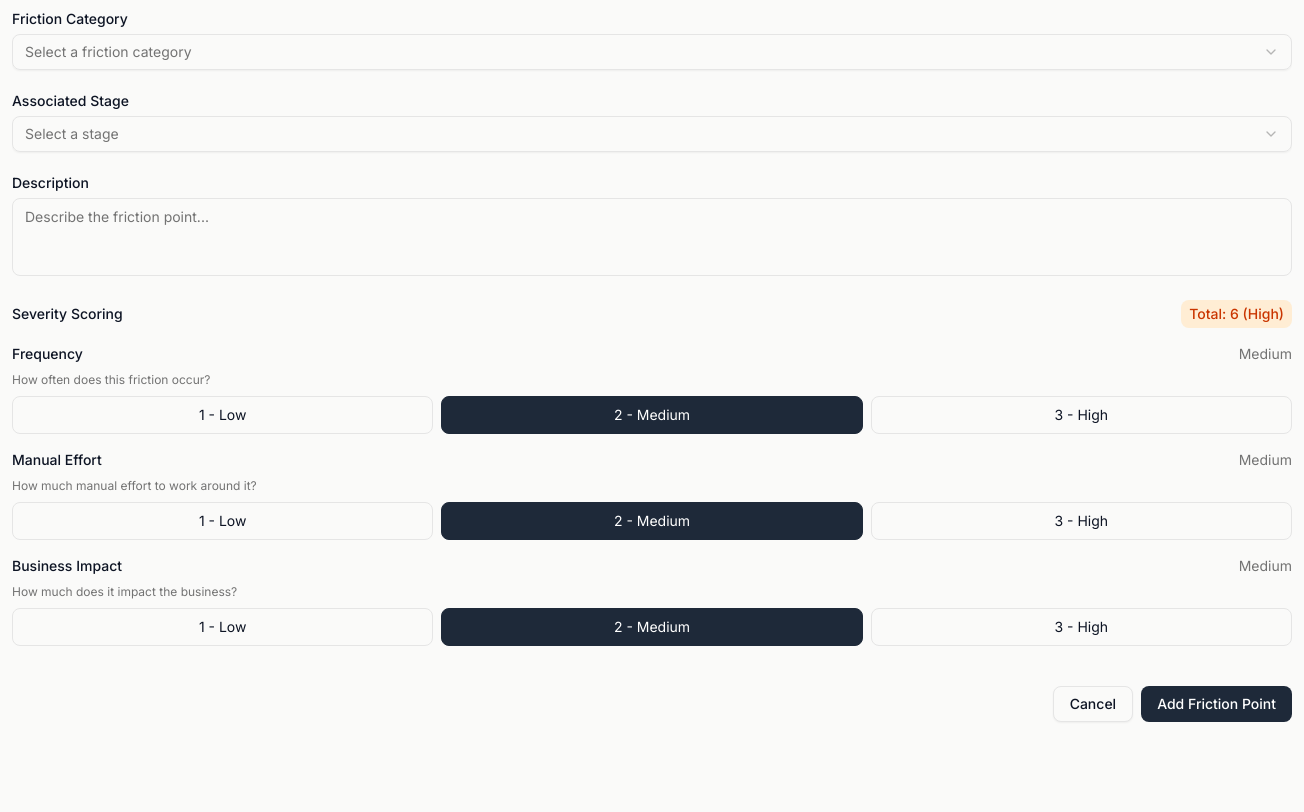
Scenario: FrictionForm › shows error when submitting without category
Click the button "Add Friction Point": [1217, 704] box [1141,686,1292,722]
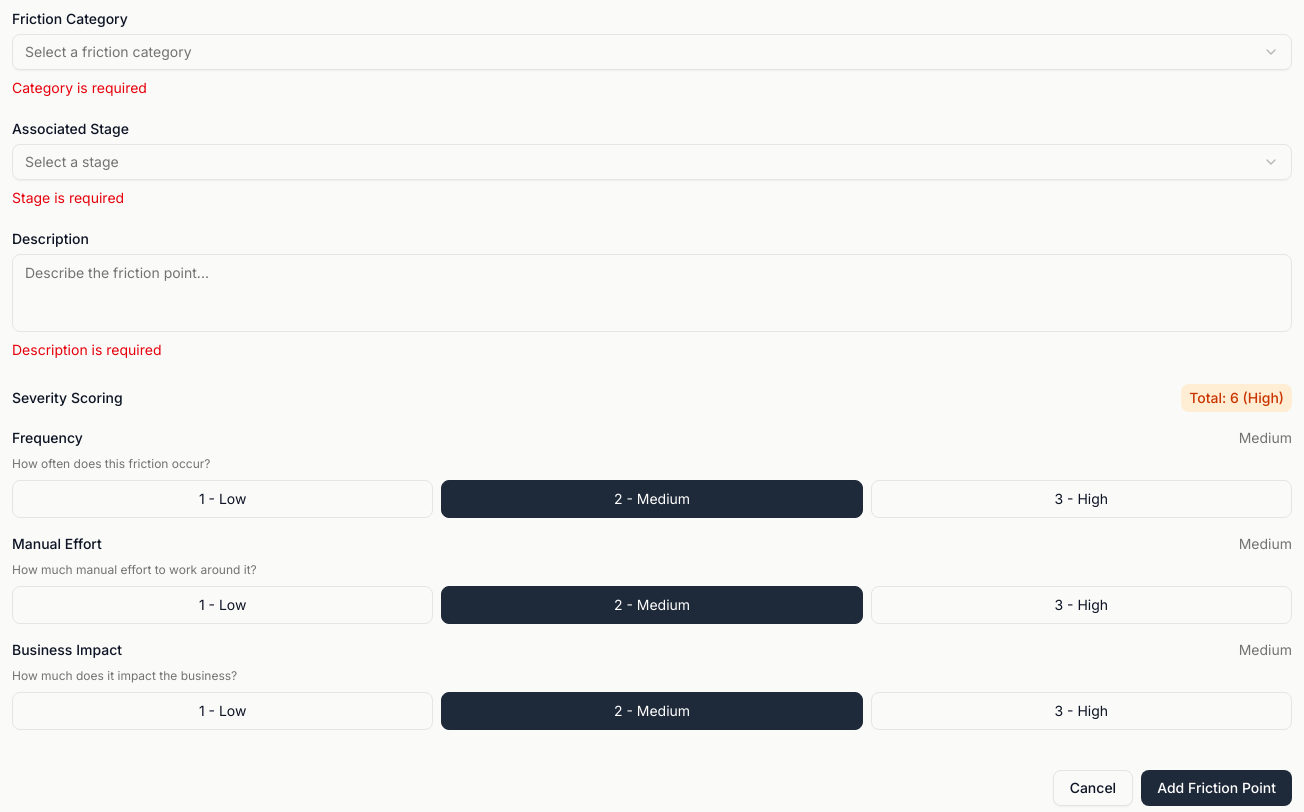
Now the text "Category is required" is shown, box [12,79,147,96]
